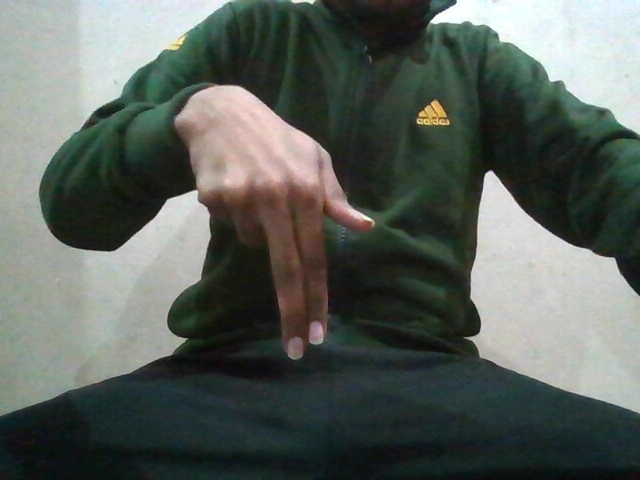Q: (192, 115, 392, 362)
